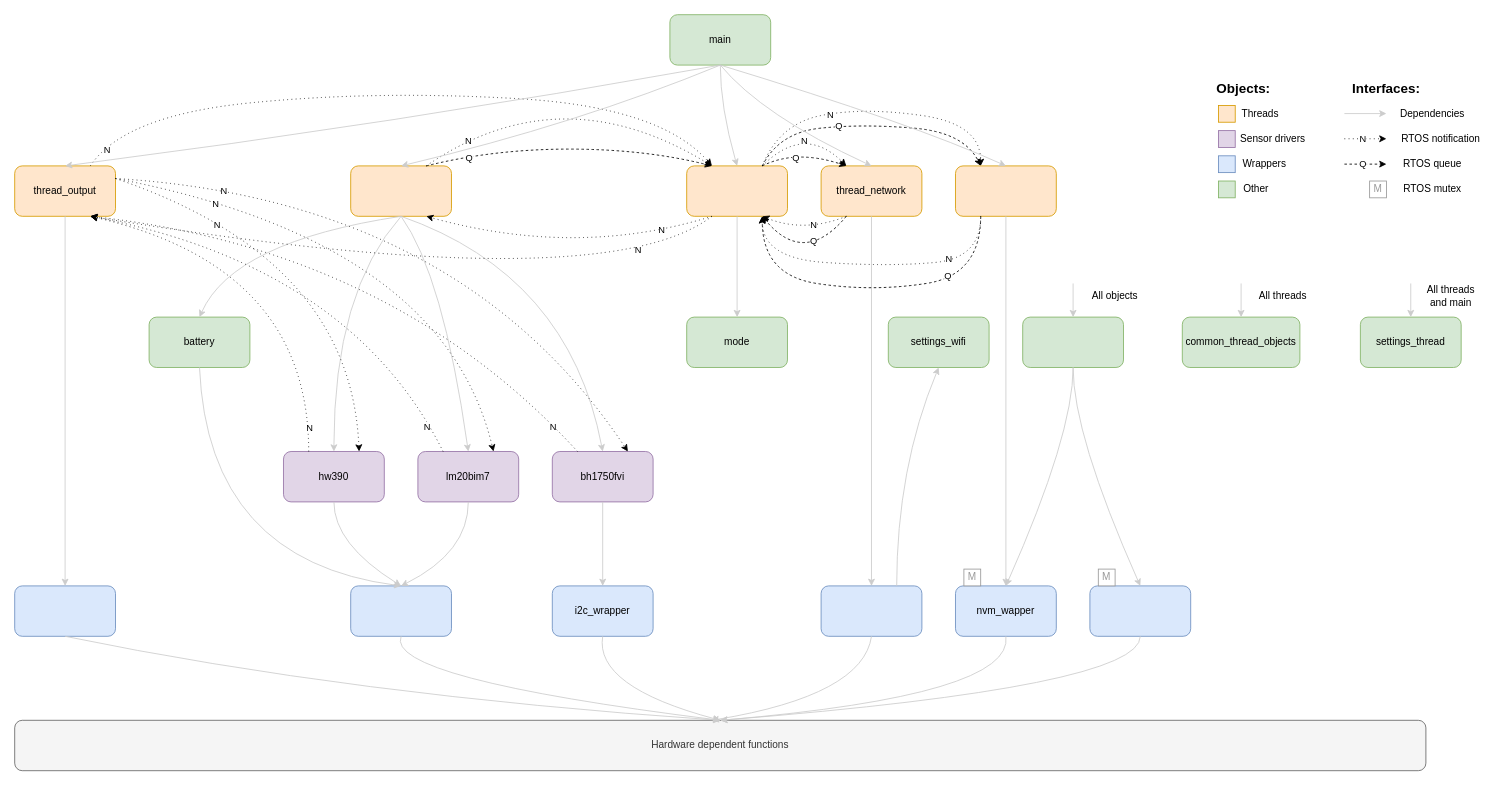
Some shapes in this 1502 by 785 pixel diagram are drawn without their labels. The centre of each missing label's shape, as x and y in pixels:
"adc_wrapper" goes at [401,610].
"error" goes at [1073,342].
"gpio_wrapper" goes at [65,610].
"thread_app" goes at [737,190].
"thread_input" goes at [401,190].
"thread_memory" goes at [1005,190].
"uart_wrapper" goes at [1140,610].
"wifi_wrapper" goes at [871,610].
